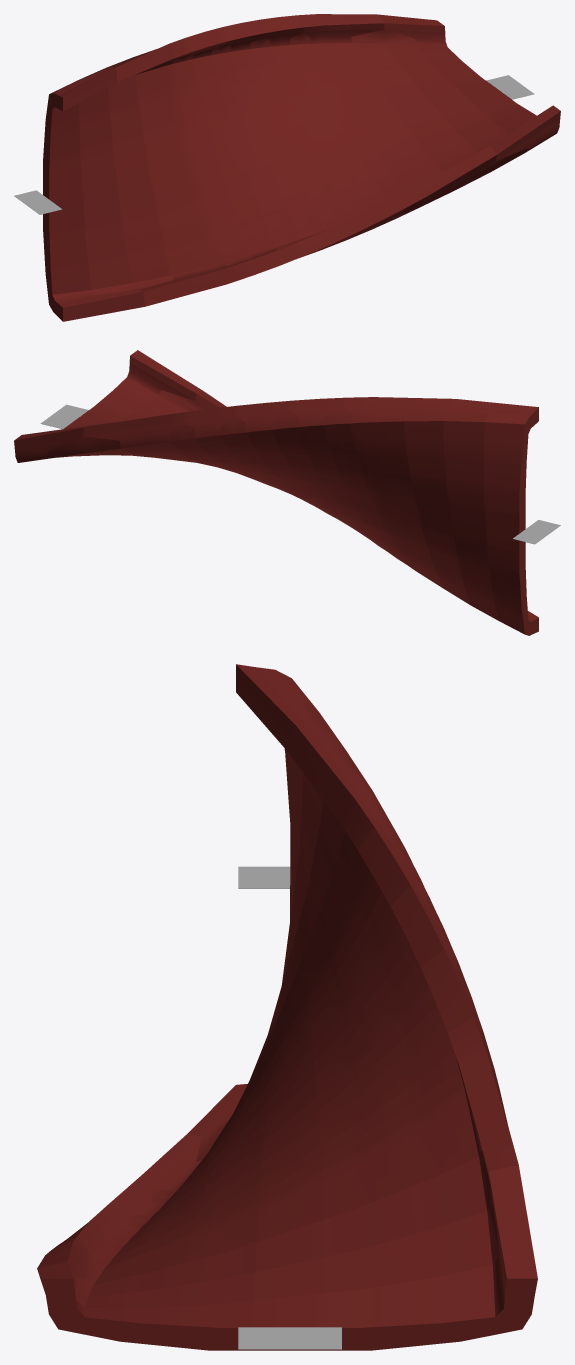
Rendered from FlatConnectorTwistRight90.fbx.
The picture shows the model from 3 angles, top to bottom: view 1: azimuth 30°, elevation 25°; view 2: azimuth 150°, elevation 25°; view 3: azimuth 270°, elevation 25°; orthographic projection. The views are drawn at different scales.
Parts seen in each view (by area): view 1: pPipe3, pasted__pCube3, pasted__pCube2; view 2: pPipe3, pasted__pCube2, pasted__pCube3; view 3: pPipe3, pasted__pCube2, pasted__pCube3.
Boxes of the visible parts, x1,y1,x2,y2 form: pPipe3: [43, 14, 560, 321]; pasted__pCube3: [14, 190, 62, 214]; pasted__pCube2: [486, 75, 534, 99]; pPipe3: [14, 350, 538, 635]; pasted__pCube2: [40, 404, 88, 429]; pasted__pCube3: [513, 520, 560, 544]; pPipe3: [37, 664, 537, 1350]; pasted__pCube2: [238, 1327, 341, 1349]; pasted__pCube3: [238, 866, 290, 888].
Bounding box in the file's own units: 22 × 9.65 × 9.65.
